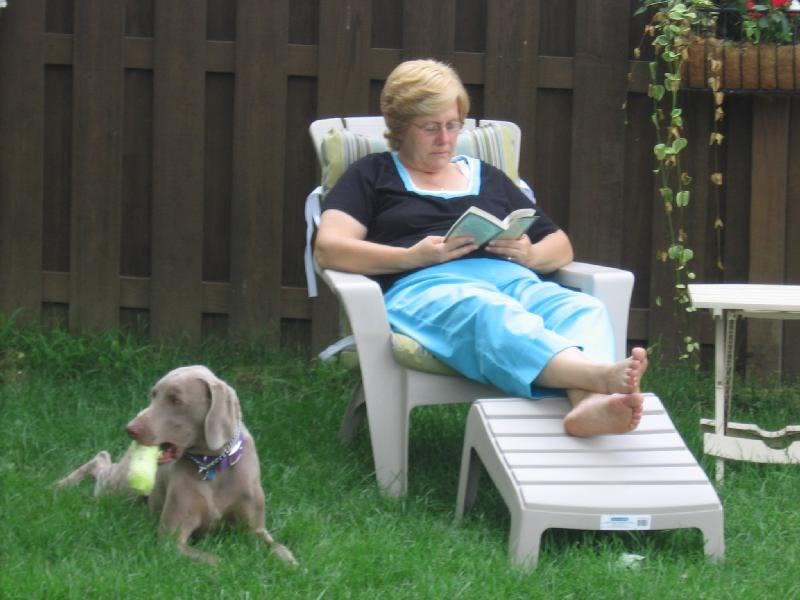person: (313, 58, 650, 438)
